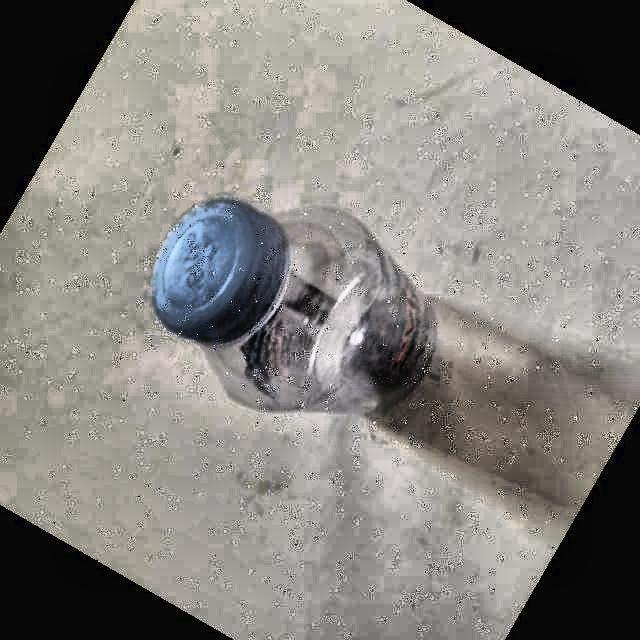plastic: (152, 199, 434, 413)
